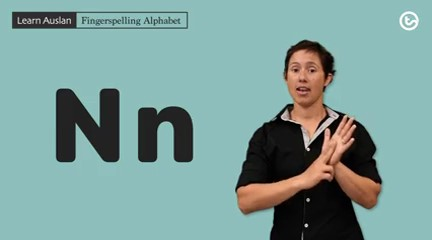N: (296, 108, 365, 194)
